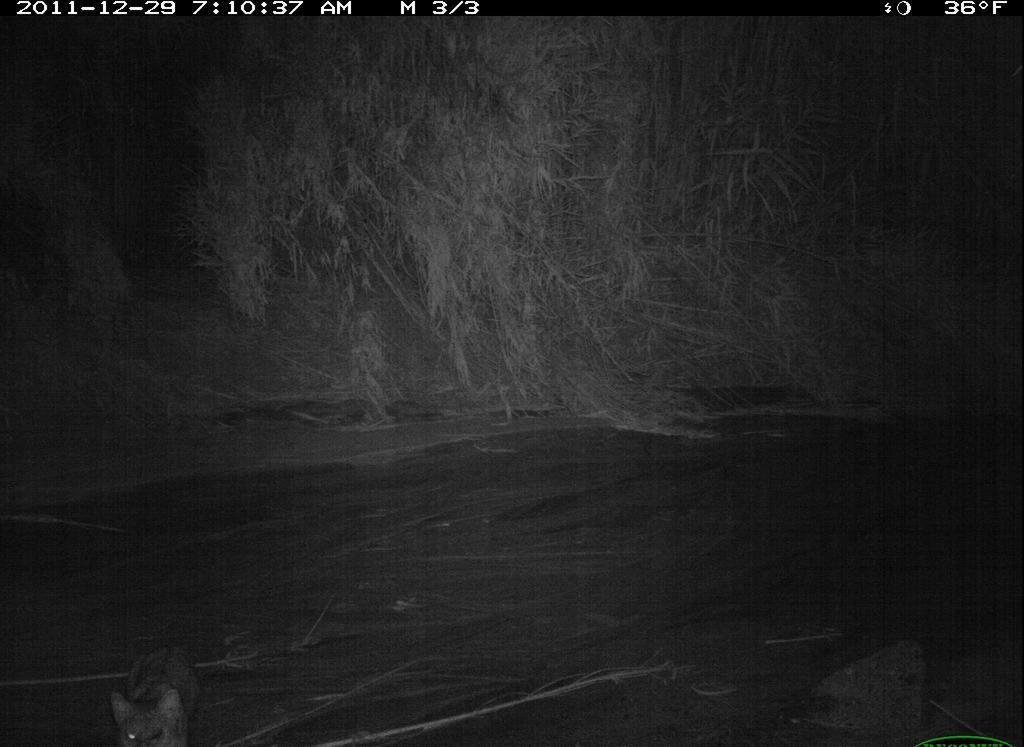bobcat: (88, 632, 214, 745)
